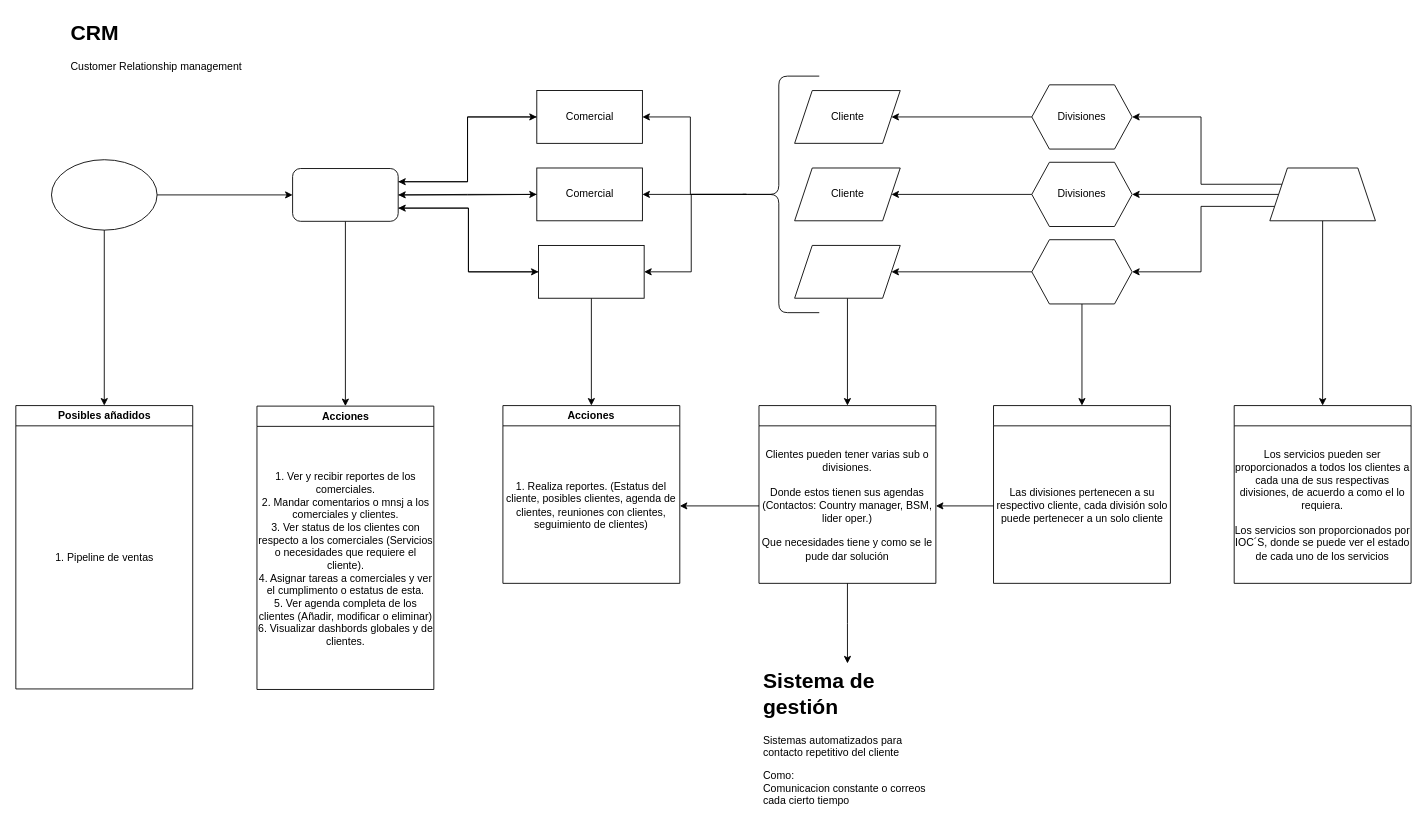
This 1426x839 diagram has some shape labels left out. Here are the shapes that lost their labels. From the top down, the centre of each, then its label:
[104,194]: CRM
[345,194]: Supervisor
[1322,194]: Servicios
[591,271]: Comercial n...
[847,271]: Cliente n...
[1081,271]: Divisiones n...
